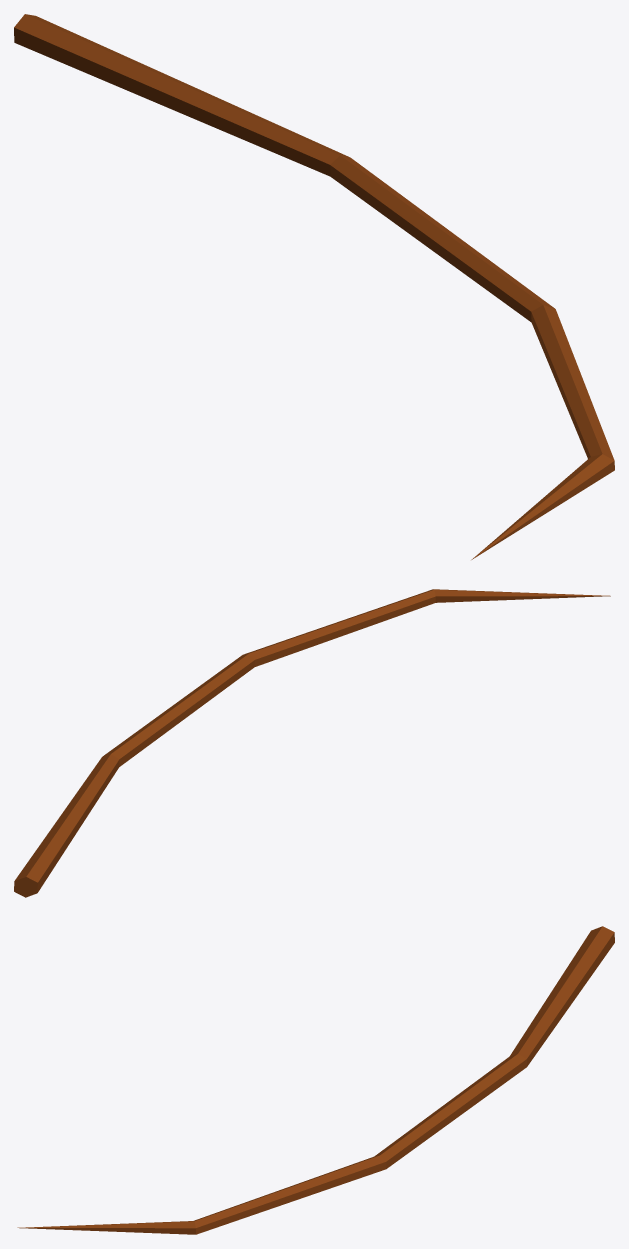
File: Vegetation_Tree_Roots_Vines_Snaking_07.FBX
3 views of the same model, one above another, from view 1: azimuth 30°, elevation 25°; view 2: azimuth 150°, elevation 25°; view 3: azimuth 330°, elevation 25° (orthographic). The views are drawn at different scales.
Visible parts, largest first — view 1: Vegetation_Tree_Roots_Vines_Snaking_07; view 2: Vegetation_Tree_Roots_Vines_Snaking_07; view 3: Vegetation_Tree_Roots_Vines_Snaking_07.
Boxes of the visible parts, x1,y1,x2,y2 form: Vegetation_Tree_Roots_Vines_Snaking_07: (14, 14, 614, 559); Vegetation_Tree_Roots_Vines_Snaking_07: (14, 589, 610, 897); Vegetation_Tree_Roots_Vines_Snaking_07: (17, 926, 614, 1234).
Size of the model in its own units: 1913 by 177 by 6871.
